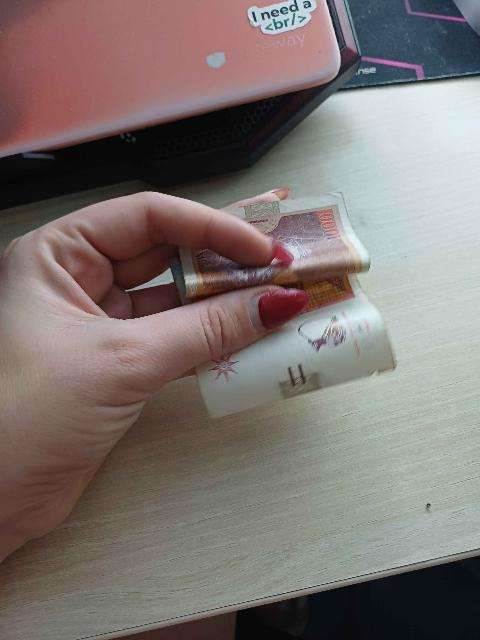1000_note: (182, 191, 394, 408)
